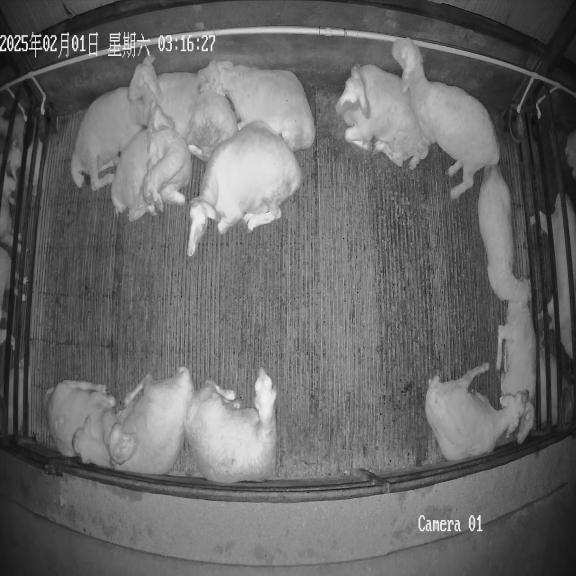lying: (187, 122, 302, 256), (73, 367, 193, 475), (128, 57, 241, 162), (198, 60, 315, 151), (184, 369, 277, 483), (71, 87, 171, 190), (425, 363, 530, 460), (336, 64, 430, 169), (44, 380, 137, 465), (111, 128, 191, 222), (478, 166, 530, 306), (496, 296, 536, 443)
stand: (392, 38, 500, 199)
